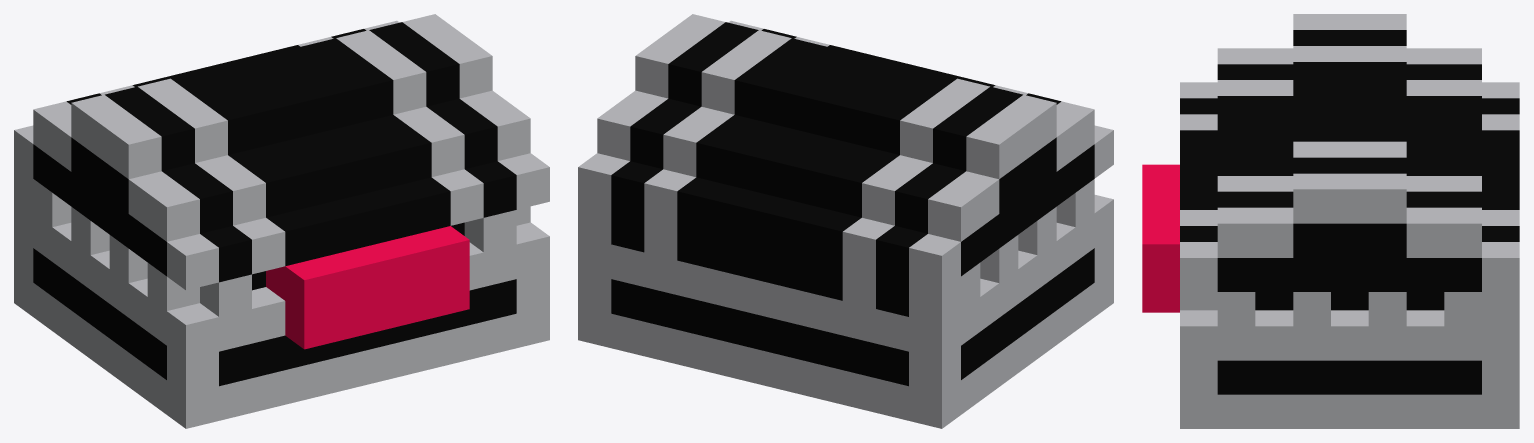
Rendered from mimic_h_walk_3.obj.
The picture shows the model from 3 angles, left to right: view 1: azimuth 30°, elevation 25°; view 2: azimuth 150°, elevation 25°; view 3: azimuth 270°, elevation 25°; orthographic projection.
Size of the model in its own units: 1.1 by 0.7 by 1.
1 material, 1 textured.
